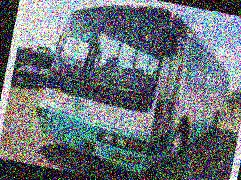bus: (28, 0, 241, 180)
